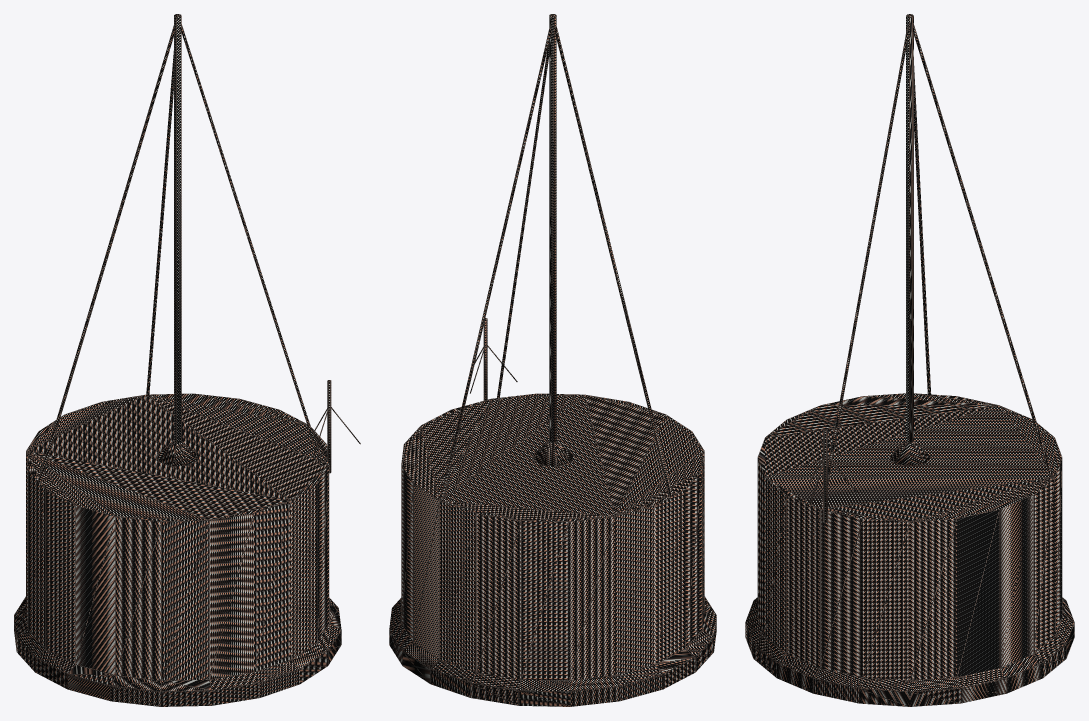
File: Kaunis_DME.gltf
The picture shows the model from 3 angles, left to right: view 1: azimuth 30°, elevation 25°; view 2: azimuth 150°, elevation 25°; view 3: azimuth 270°, elevation 25°; orthographic projection.
Visible parts, largest first — view 1: node2; view 2: node2; view 3: node2.
Boxes of the visible parts, <box> form: node2: <box>14,14,360,706</box>; node2: <box>389,14,716,706</box>; node2: <box>745,14,1074,706</box>.
Size of the model in its own units: 5 by 10.42 by 5.
